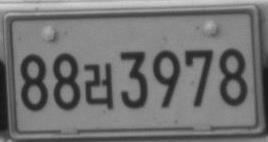3: (120, 51, 147, 108)
7: (184, 49, 213, 107)
8: (218, 47, 247, 106), (19, 53, 48, 111), (52, 53, 81, 111)
9: (152, 49, 181, 107)
러: (84, 62, 115, 109)
